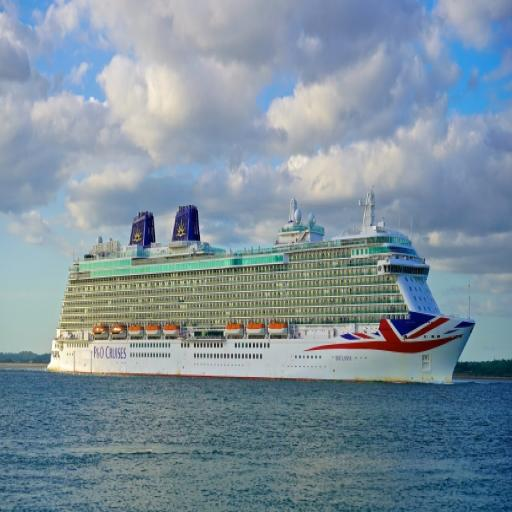cruises: (49, 189, 478, 393)
